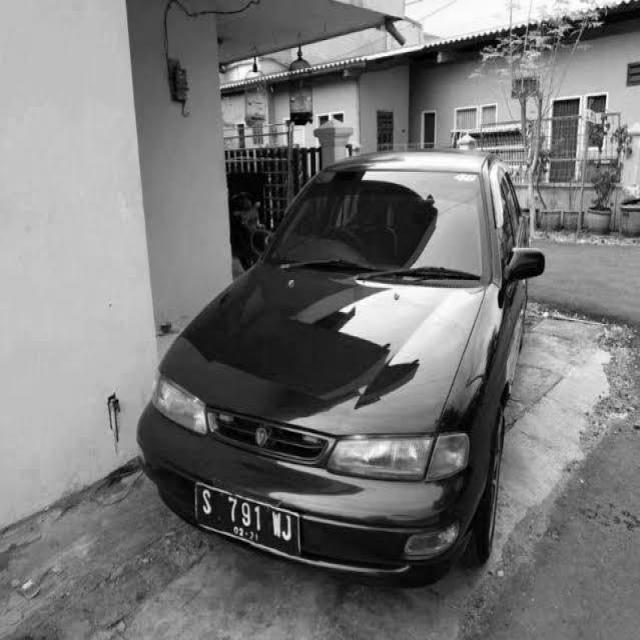1: (250, 504, 262, 534)
7: (225, 492, 238, 530)
9: (238, 501, 254, 534)
J: (282, 516, 298, 544)
S: (194, 490, 216, 515)
W: (268, 509, 282, 542)
